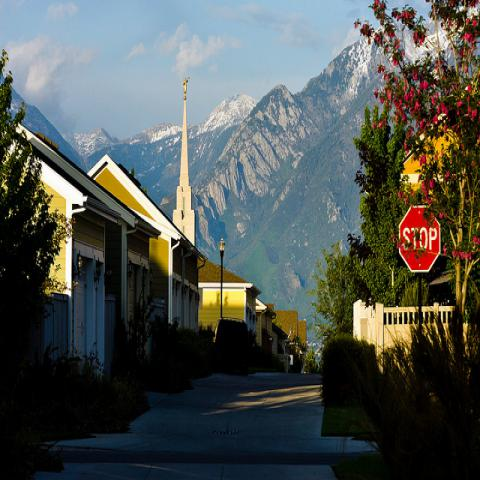car: (211, 318, 252, 372)
